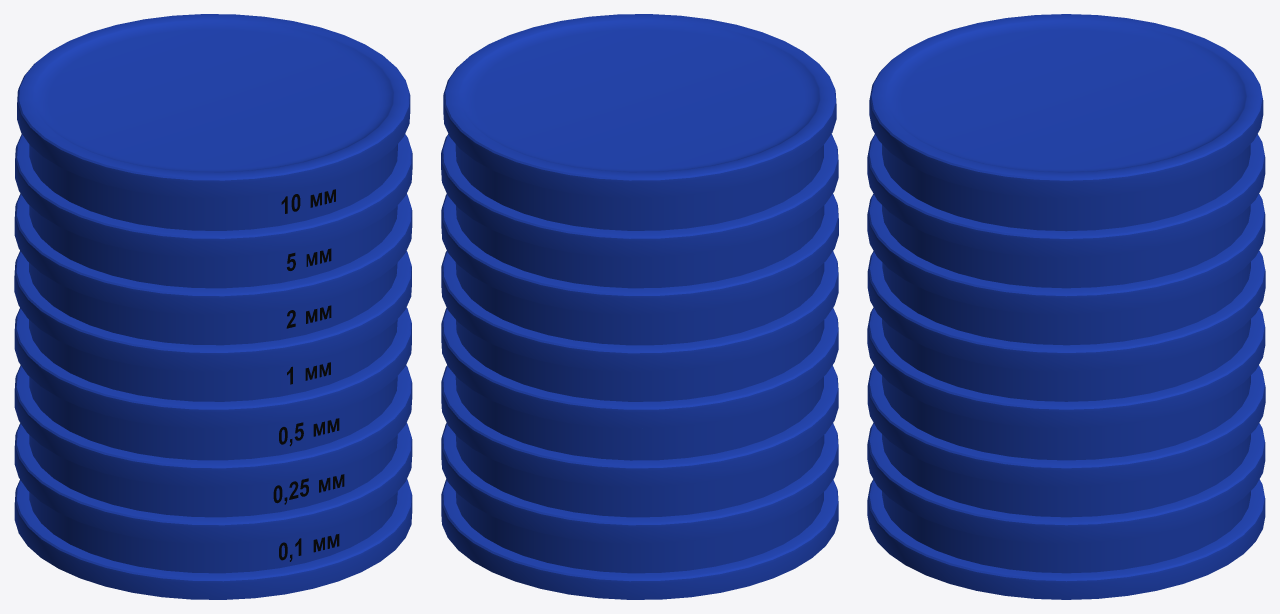
Rendered from набор сит.FBX.
3 views of the same model, side by side, from view 1: azimuth 30°, elevation 25°; view 2: azimuth 150°, elevation 25°; view 3: azimuth 270°, elevation 25° (orthographic).
Parts seen in each view (by area): view 1: крышка сита, сито 10 мм, сито 0,5 мм, сито 5 мм, сито 0,25 мм, сито 2 мм, сито 1 мм, сито 0,1 мм; view 2: крышка сита, сито 10 мм, сито 0,5 мм, сито 5 мм, сито 2 мм, сито 0,25 мм, сито 1 мм, сито 0,1 мм; view 3: крышка сита, сито 10 мм, сито 0,5 мм, сито 5 мм, сито 2 мм, сито 0,25 мм, сито 1 мм, сито 0,1 мм.
Part boxes in pixels (<box>): крышка сита: <box>17,14,410,198</box>; сито 10 мм: <box>15,134,412,257</box>; сито 0,5 мм: <box>14,365,412,486</box>; сито 5 мм: <box>14,193,412,314</box>; сито 0,25 мм: <box>14,423,412,543</box>; сито 2 мм: <box>14,251,411,371</box>; сито 1 мм: <box>14,307,411,428</box>; сито 0,1 мм: <box>14,479,412,599</box>; крышка сита: <box>443,14,836,198</box>; сито 10 мм: <box>441,134,838,257</box>; сито 0,5 мм: <box>441,365,838,487</box>; сито 5 мм: <box>441,194,838,314</box>; сито 2 мм: <box>441,251,838,371</box>; сито 0,25 мм: <box>441,423,838,543</box>; сито 1 мм: <box>441,307,838,428</box>; сито 0,1 мм: <box>441,479,838,599</box>; крышка сита: <box>869,14,1263,198</box>; сито 10 мм: <box>867,134,1265,257</box>; сито 0,5 мм: <box>867,365,1265,486</box>; сито 5 мм: <box>867,194,1265,314</box>; сито 2 мм: <box>867,250,1265,371</box>; сито 0,25 мм: <box>867,423,1265,543</box>; сито 1 мм: <box>867,307,1265,428</box>; сито 0,1 мм: <box>867,479,1265,599</box>.
Size of the model in its own units: 25.29 by 29.43 by 25.29.
